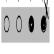correct: (28, 14, 34, 35)
not correct: (40, 0, 48, 34)
